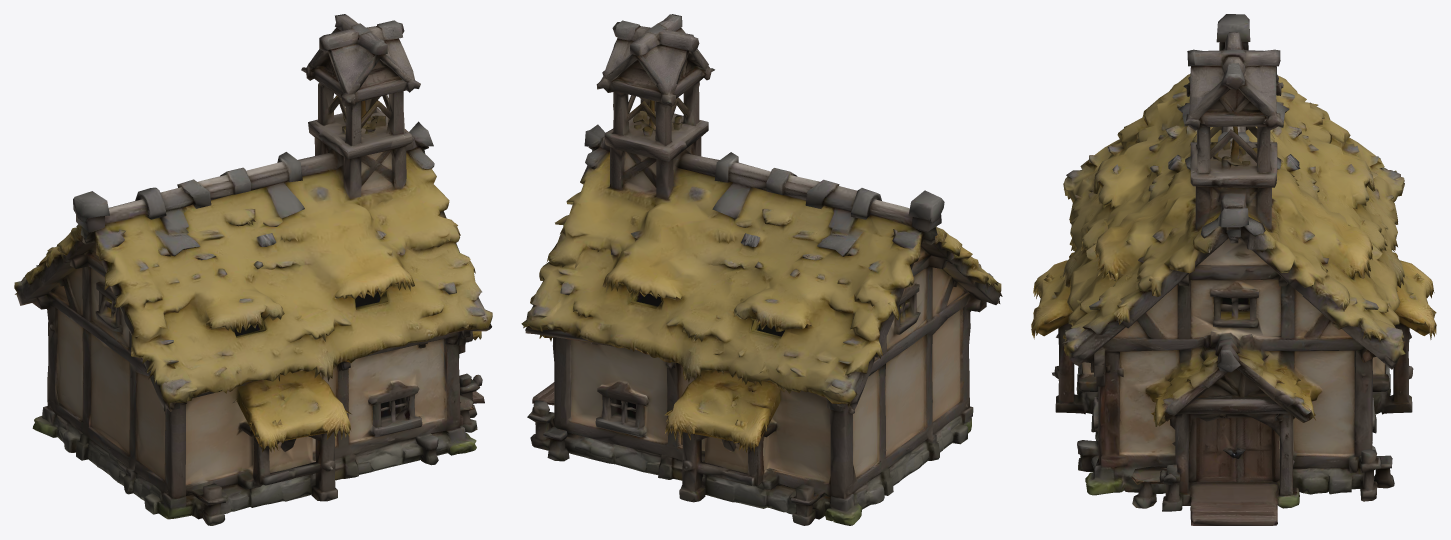
File: townVillageHall.glb
3 views of the same model, side by side, from view 1: azimuth 30°, elevation 25°; view 2: azimuth 150°, elevation 25°; view 3: azimuth 270°, elevation 25° (orthographic). The views are drawn at different scales.
Visible parts, largest first — view 1: pb_node; view 2: pb_node; view 3: pb_node.
Part boxes in pixels (left/top/right/bottom): pb_node: left=14, top=14, right=492, bottom=525; pb_node: left=521, top=14, right=1002, bottom=525; pb_node: left=1031, top=14, right=1436, bottom=525.
Size of the model in its own units: 1 by 0.9569 by 0.8374.
Materials: 1 (1 with a texture image).
